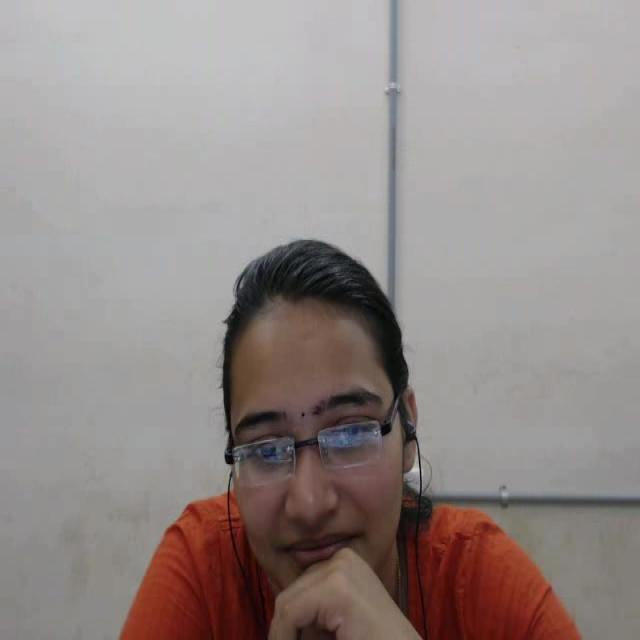Bored: (166, 202, 440, 640)
